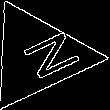N_SW: (2, 27, 74, 85)
